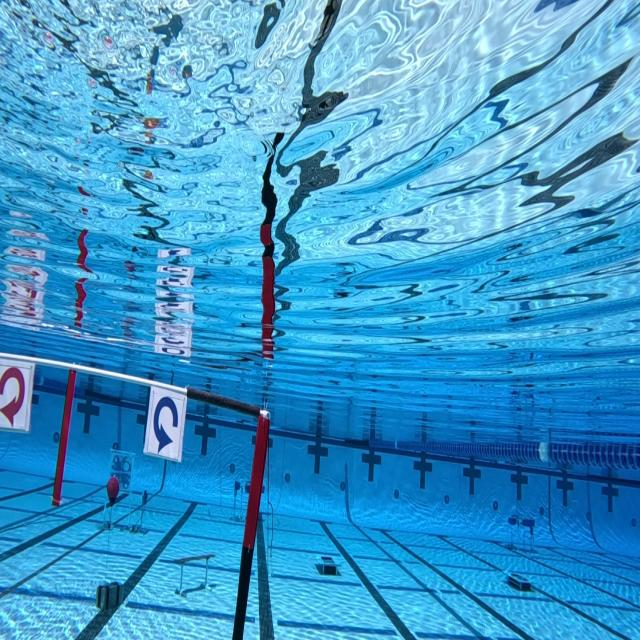blue_side: (145, 381, 187, 471)
red_side: (0, 356, 36, 443)
